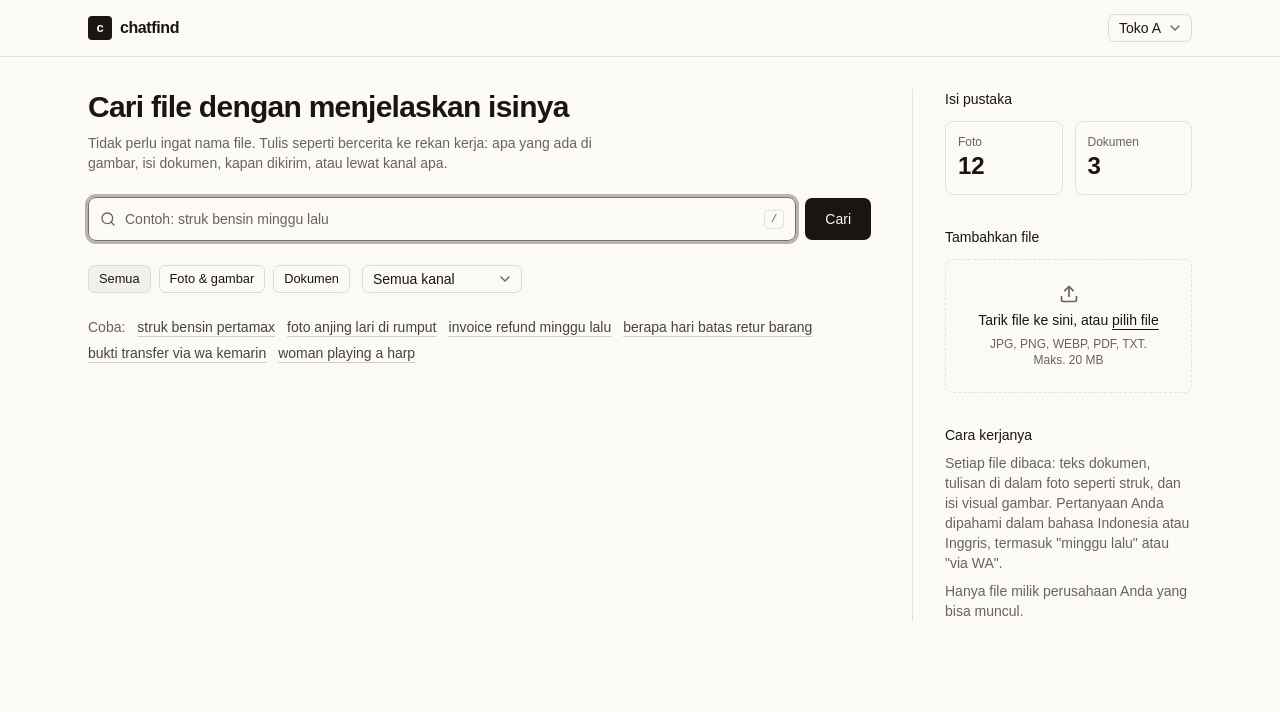
Test: App › is honest when nothing is confident
expect the text with test id "stat-image" reads "12": met, box x1=958 y1=152 x2=985 y2=179
Type "zzqx" into the field with test id "search-input" at {"x": 442, "y": 219}, box x1=88 y1=197 x2=796 y2=241
Then press Enter
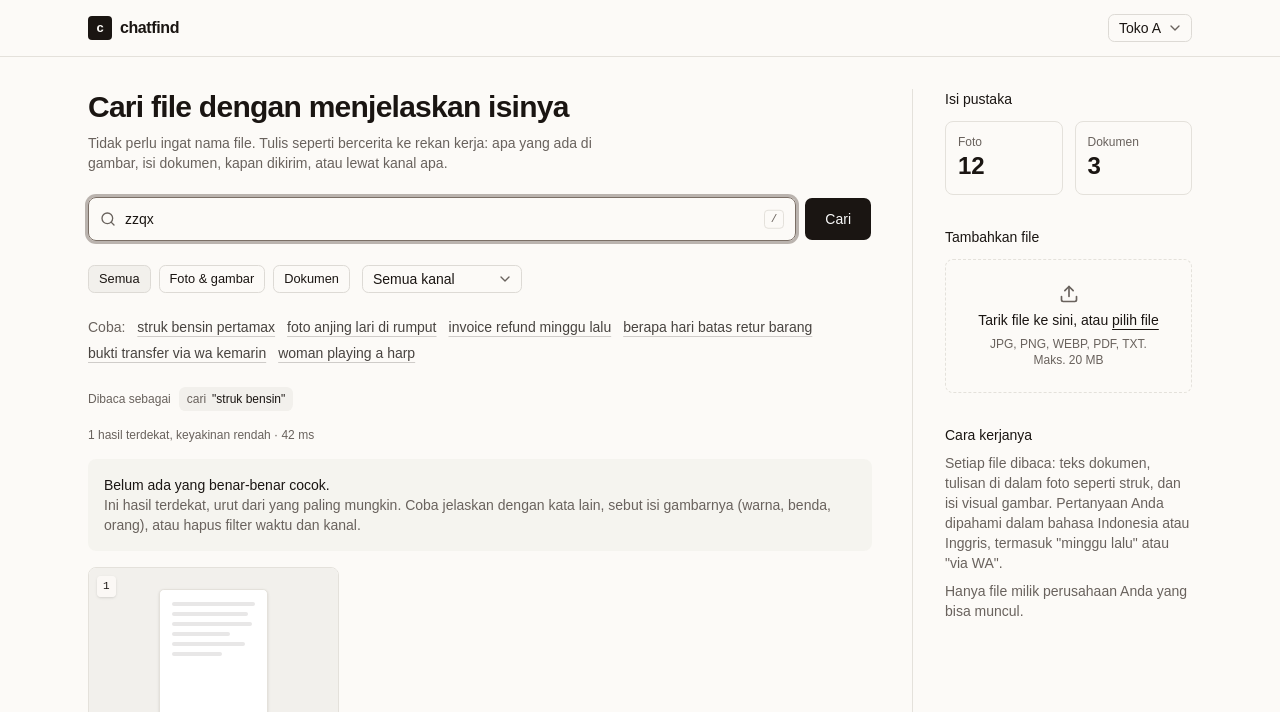
expect the element with test id "empty" shows "Belum ada yang benar-benar cocok": met, box x1=104 y1=477 x2=330 y2=493
expect the text with test id "status" shows "1 hasil terdekat, keyakinan rendah": met, box x1=88 y1=428 x2=314 y2=442
